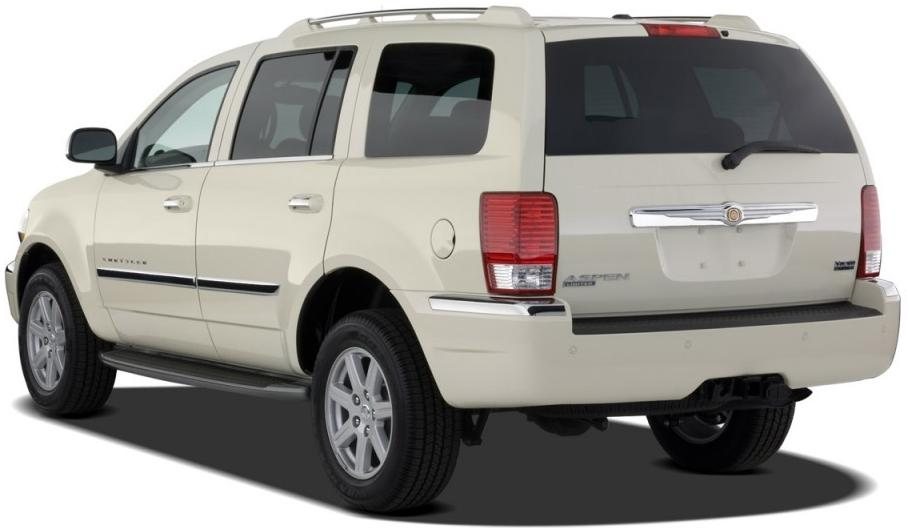back_view: (479, 156, 892, 373)
backlight: (478, 185, 576, 303)
side_glass: (99, 40, 370, 161)
